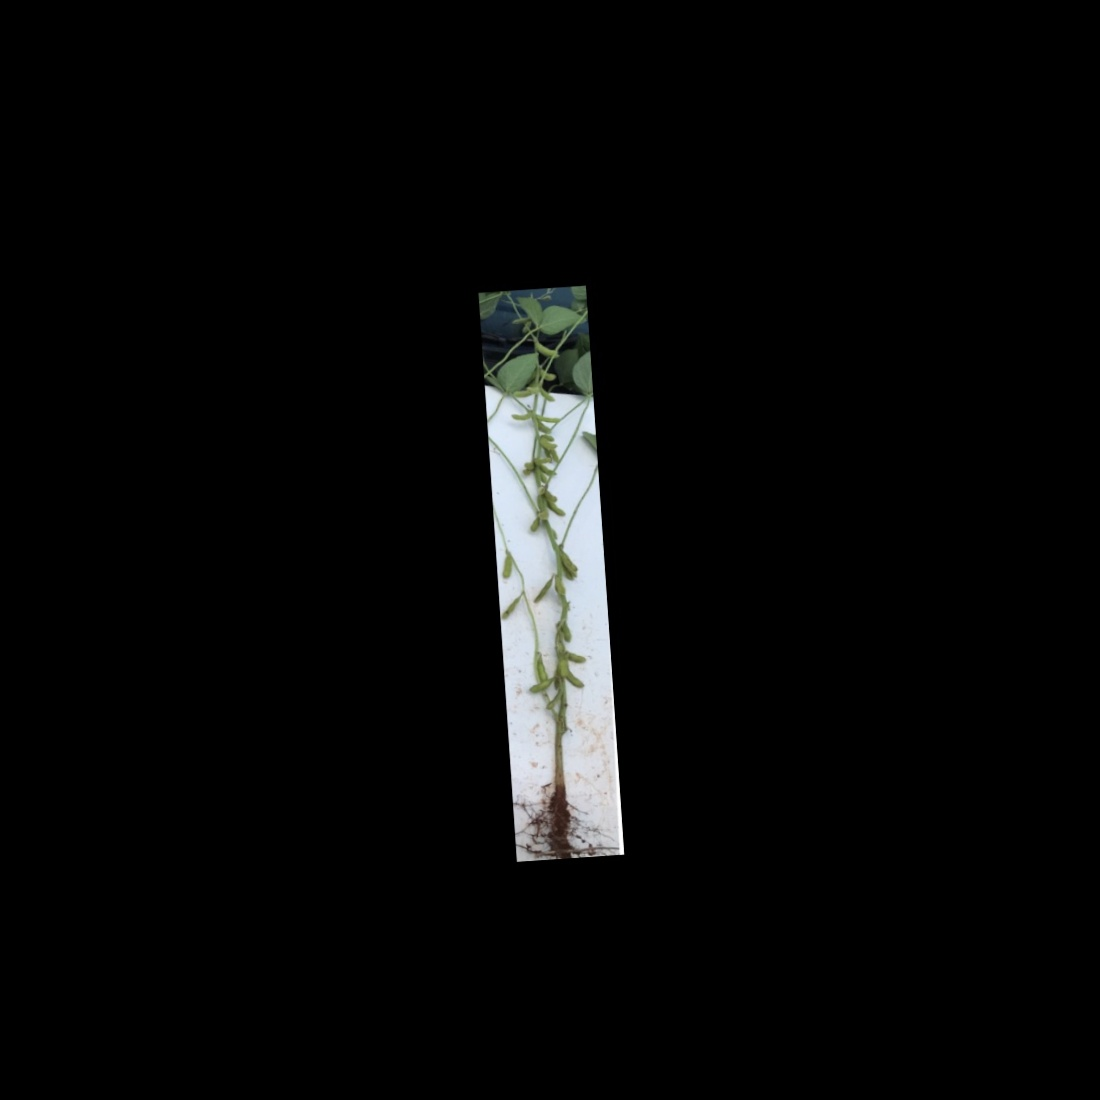pod: (530, 572, 558, 607), (500, 592, 528, 621), (534, 337, 560, 359), (535, 651, 552, 683), (499, 552, 515, 582), (534, 412, 564, 426), (544, 688, 563, 710), (531, 454, 555, 466), (508, 411, 534, 422)
soy: (482, 286, 622, 860)
